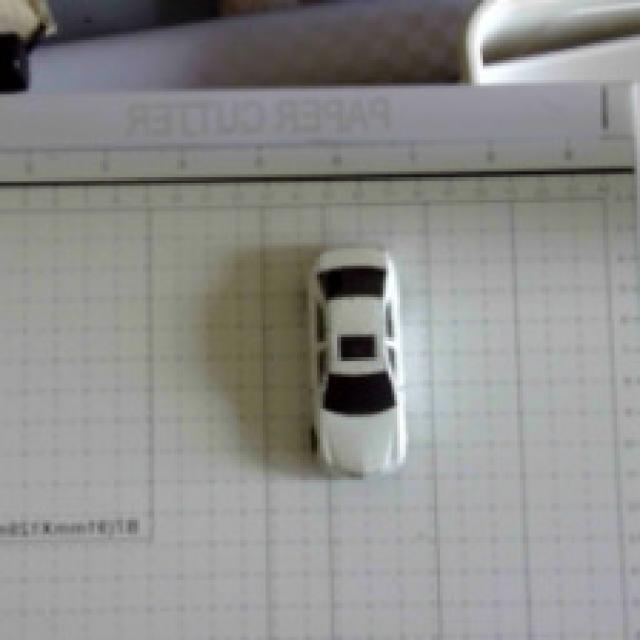Grey Car: (239, 218, 461, 511)
